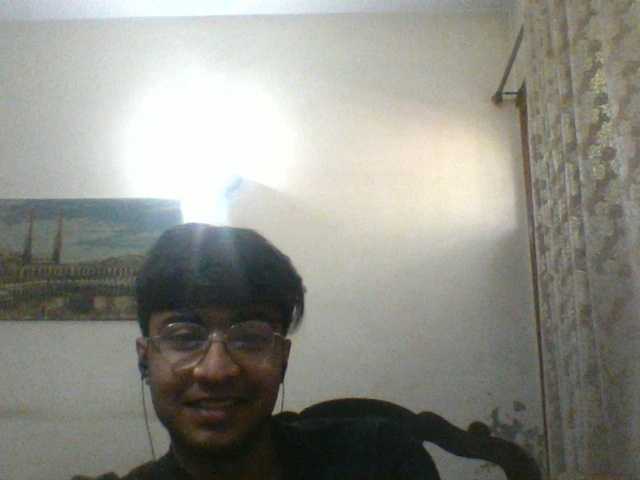happy: (142, 298, 279, 451)
